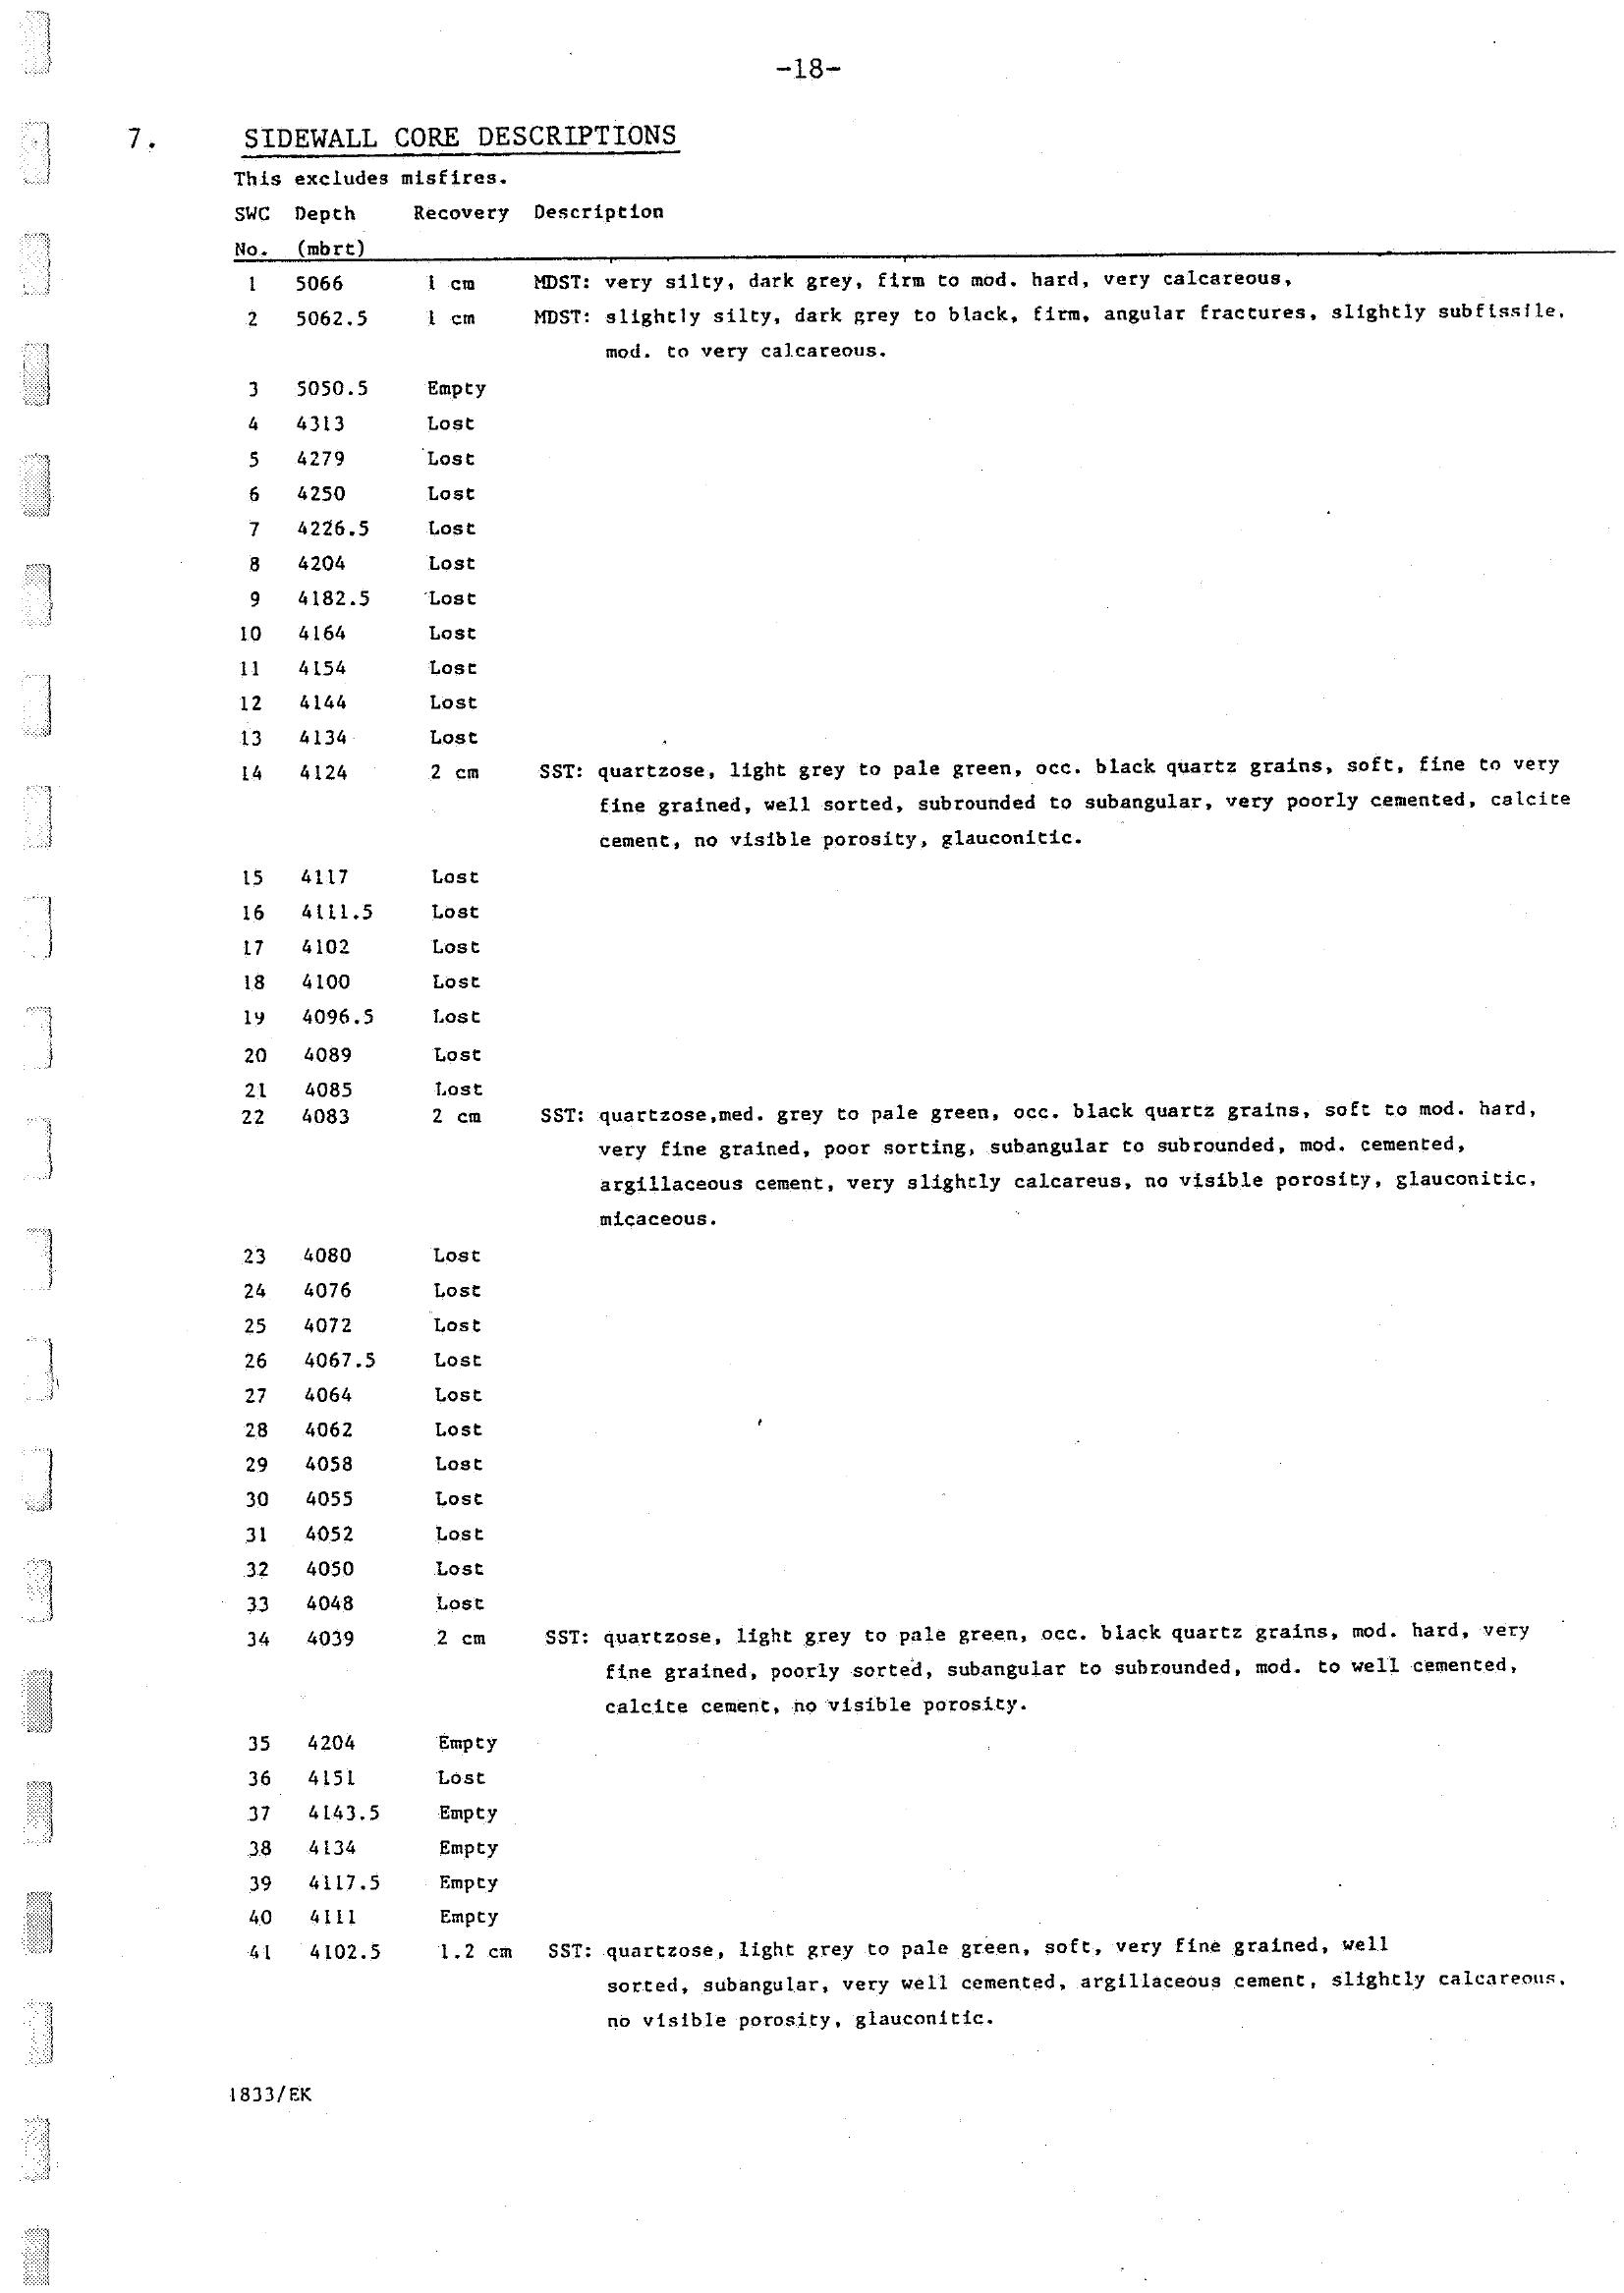table: (202, 90, 1585, 2056)
